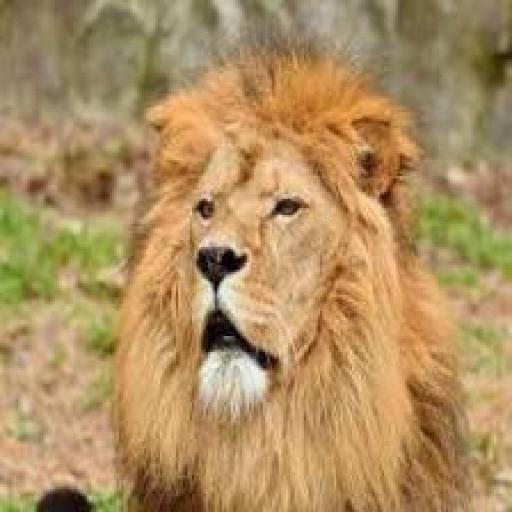lion: (110, 25, 463, 501)
